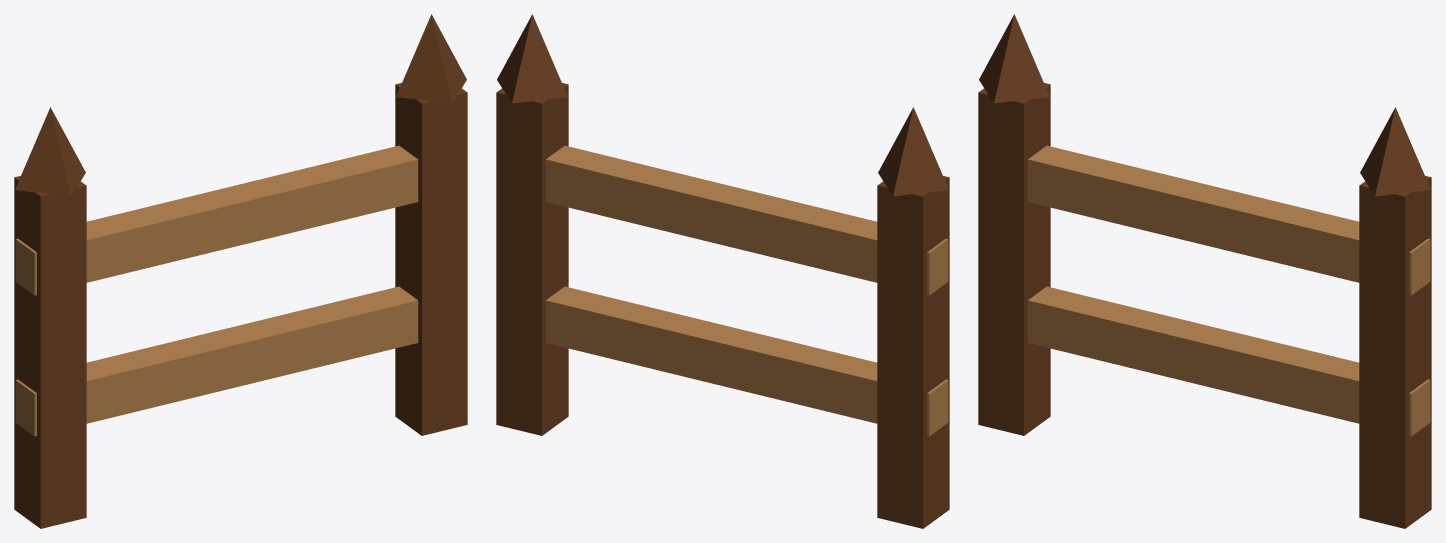
The model's file is fence.obj.
3 renders of one model, left to right at view 1: azimuth 30°, elevation 25°; view 2: azimuth 150°, elevation 25°; view 3: azimuth 330°, elevation 25°, orthographic.
Bounding box in the file's own units: 1.78 × 1.53 × 0.28.
Materials: 2 (2 with a texture image).
